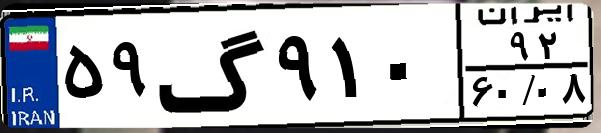0: (385, 28, 445, 110), (495, 70, 520, 125), (535, 70, 560, 125)
1: (330, 28, 385, 110)
2: (537, 27, 568, 80)
5: (57, 26, 110, 100)
6: (470, 70, 495, 125)
8: (560, 70, 590, 125)
9: (270, 28, 330, 110), (110, 28, 156, 98), (508, 27, 537, 80)
گ: (156, 12, 270, 120)
